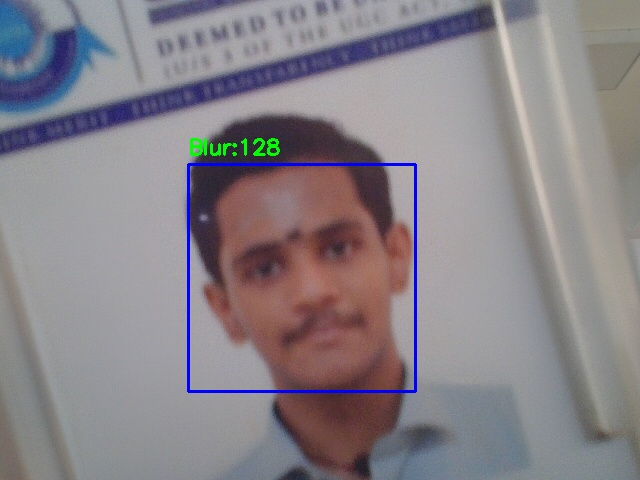fake: (188, 164, 415, 391)
